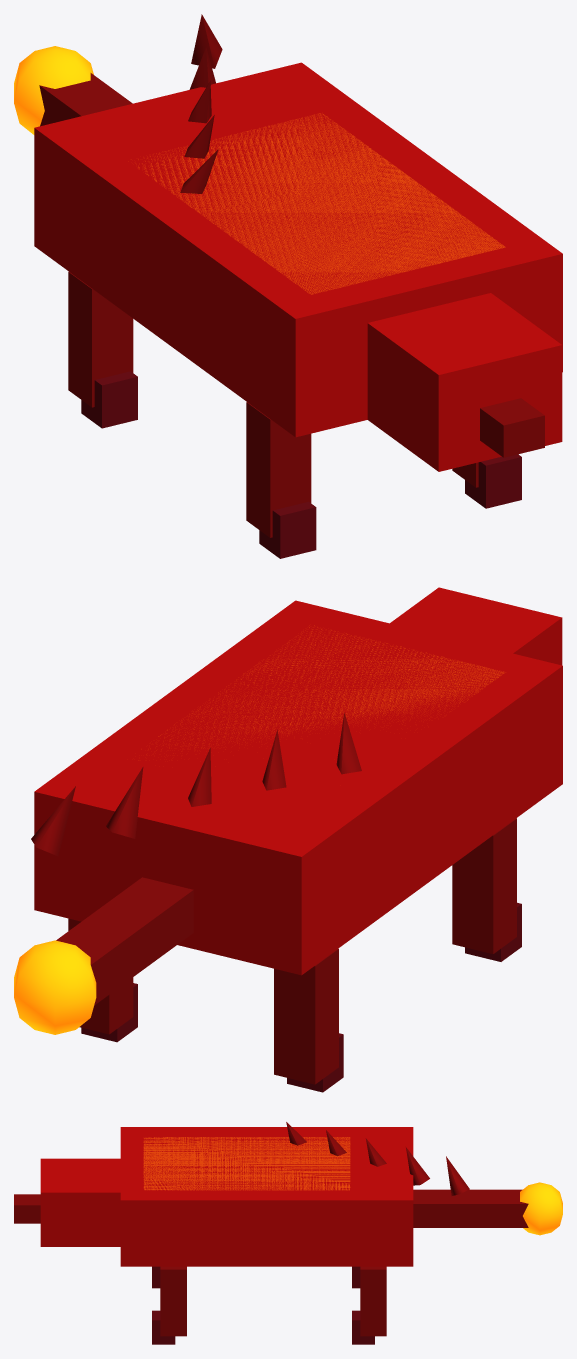
The model's file is SalamanderA.glb.
The picture shows the model from 3 angles, top to bottom: view 1: azimuth 30°, elevation 25°; view 2: azimuth 150°, elevation 25°; view 3: azimuth 270°, elevation 25°; orthographic projection. The views are drawn at different scales.
Visible parts, largest first — view 1: SalamanderBody; view 2: SalamanderBody; view 3: SalamanderBody.
Part boxes in pixels (x1,y1,x2,y2): SalamanderBody: [14, 14, 562, 558]; SalamanderBody: [14, 587, 562, 1092]; SalamanderBody: [14, 1122, 562, 1344].
Size of the model in its own units: 0.52 by 0.5753 by 1.65.
